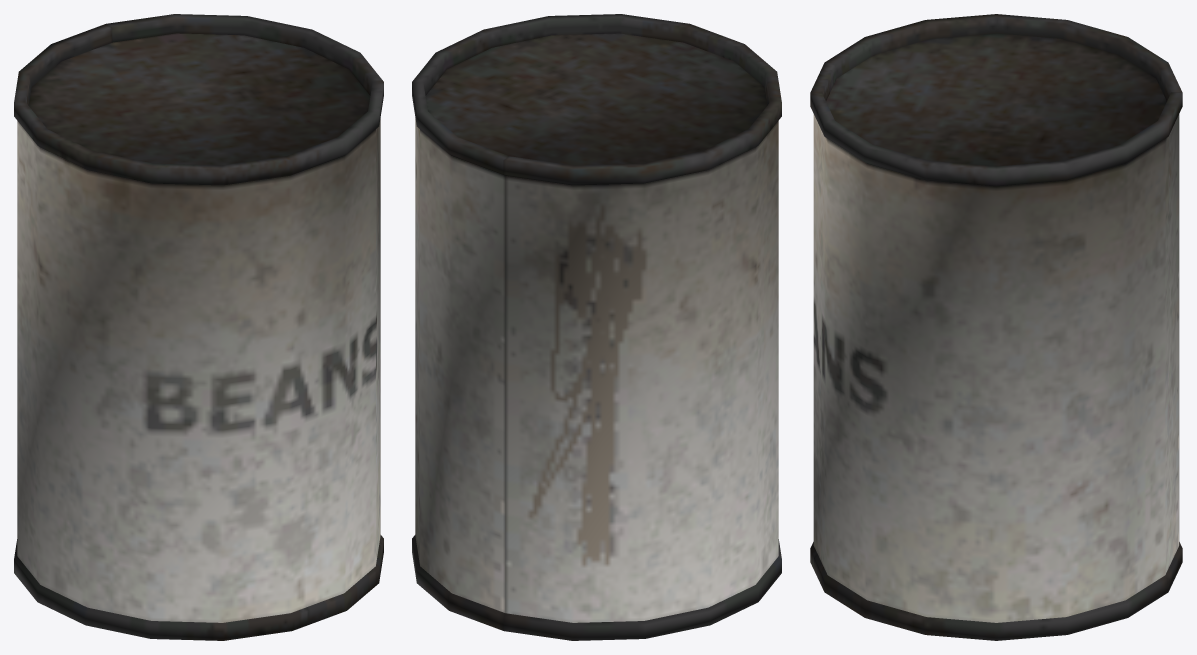
The model's file is can_o_beans.fbx.
3 renders of one model, left to right at view 1: azimuth 30°, elevation 25°; view 2: azimuth 150°, elevation 25°; view 3: azimuth 270°, elevation 25°, orthographic.
Parts seen in each view (by area): view 1: canned_food; view 2: canned_food; view 3: canned_food.
Part boxes in pixels (x1,y1,x2,y2): canned_food: (14, 14, 383, 640); canned_food: (412, 14, 781, 640); canned_food: (810, 14, 1182, 640).
Bounding box in the file's own units: 16.9 × 23.52 × 16.9.
1 material, 1 textured.
